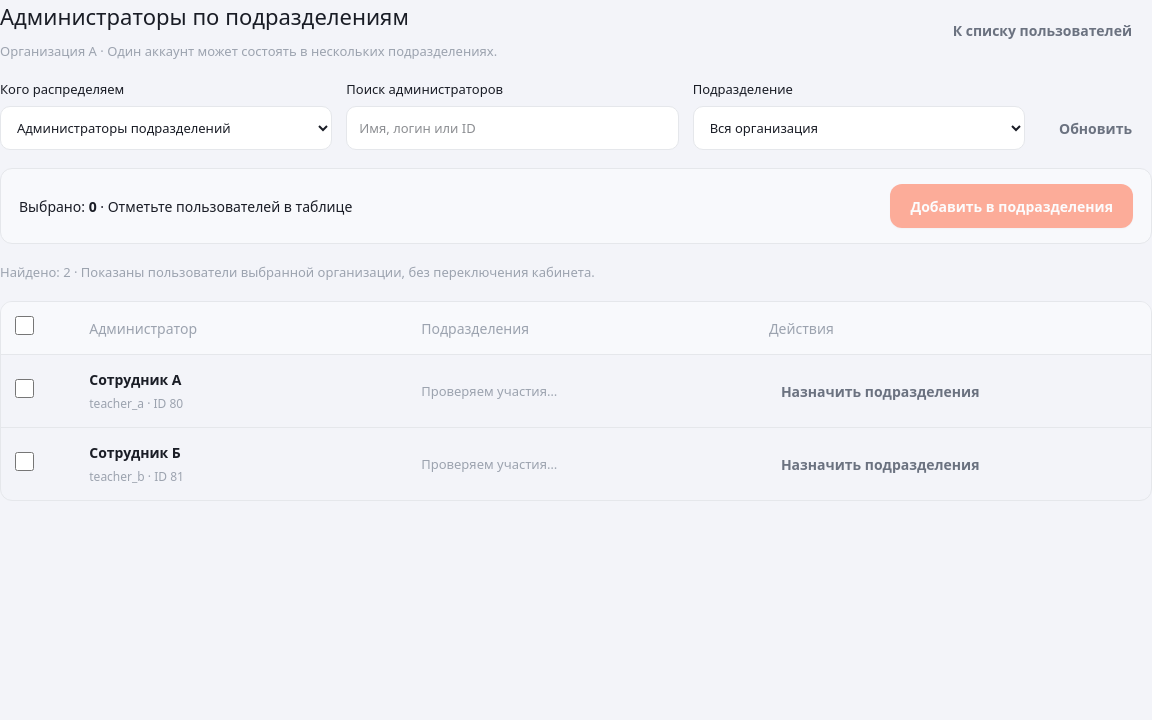
Test case: restricted administrators in the same distribution window › blocks assignment when role catalog is failed
The width and height of the screenshot is (1152, 720).
Expected: the text "Сотрудник А" is shown, [89,370,182,389]
Click the button "Назначить подразделения" in the row of "Сотрудник А": coordinates (880, 391) [769,373,992,409]
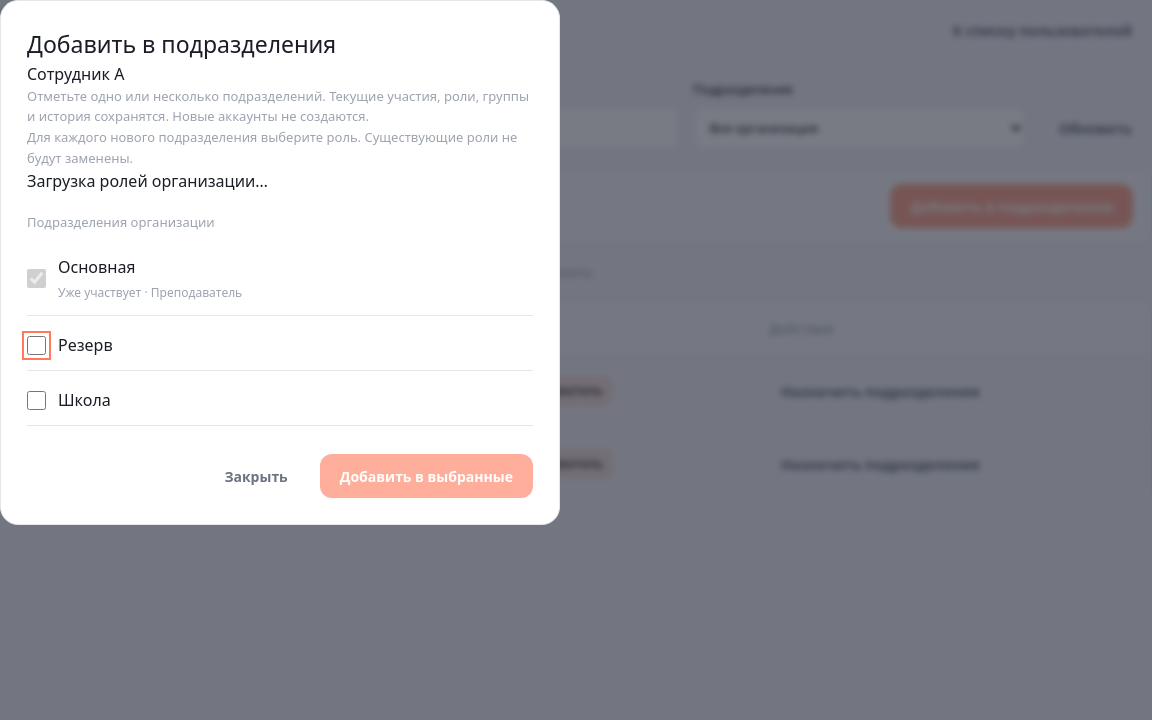
Click the checkbox labelled "Резерв": coordinates (36, 345) [27,336,46,355]
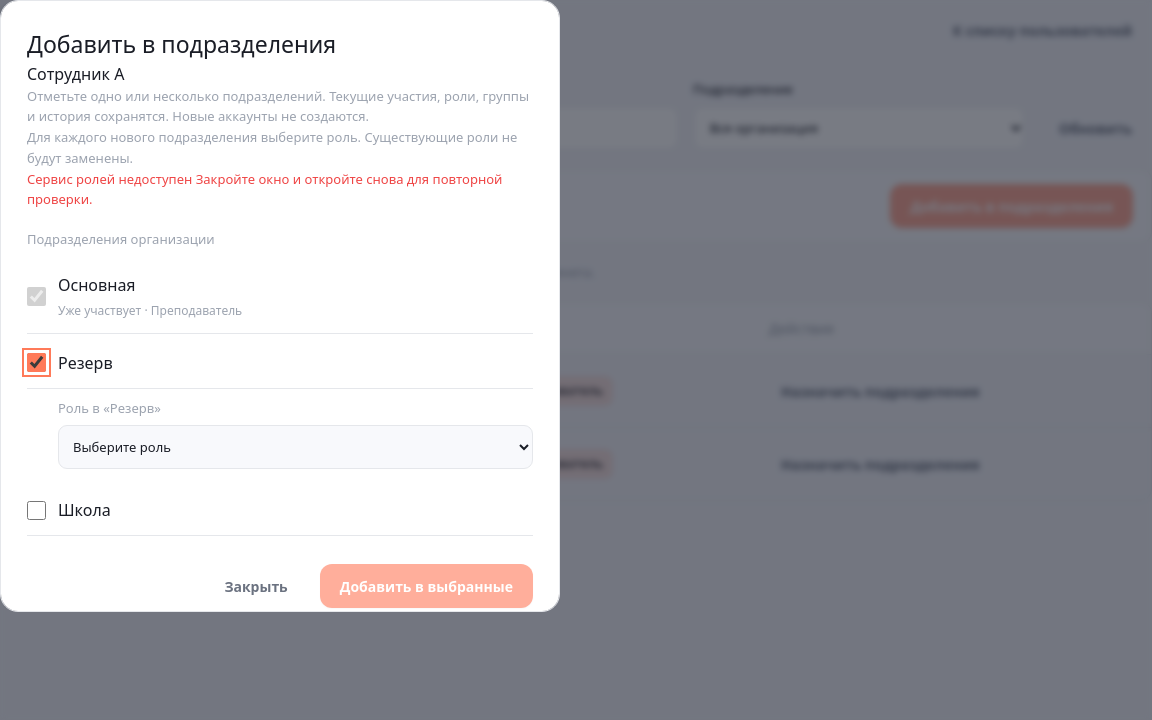
Result: the button "Добавить в выбранные" is disabled at [320,564,533,608]
Result: the text "Сервис ролей недоступен Закройте окно и откройте снова для повторной проверки." is shown at [27,169,533,210]
